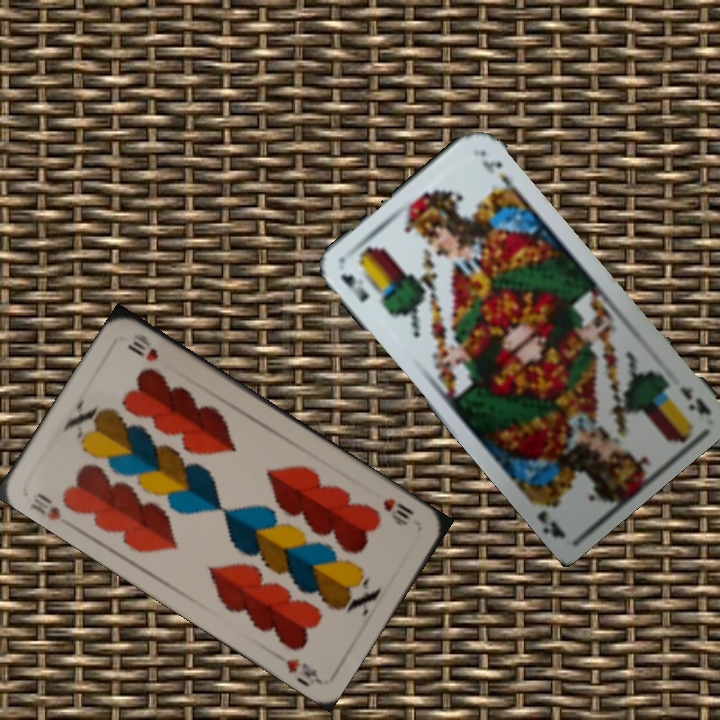EK: (676, 381, 713, 417), (337, 270, 372, 305)
H10: (378, 493, 417, 529), (27, 488, 63, 523)
